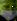with_mask: (1, 1, 17, 21)
